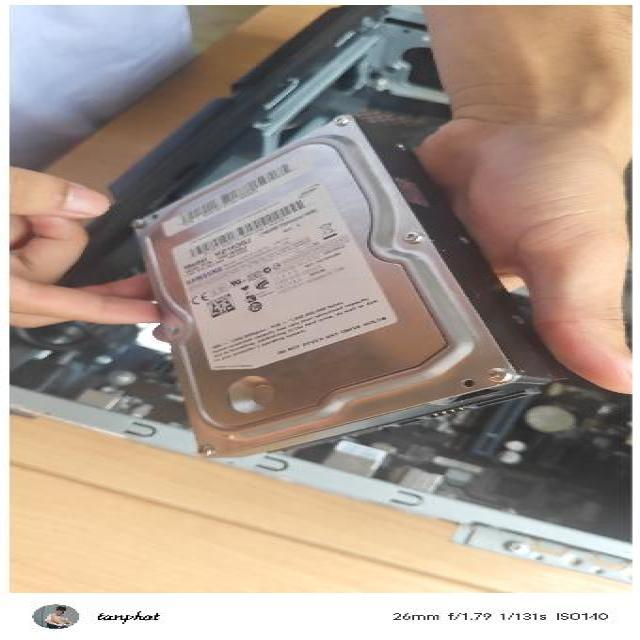DISK: (128, 111, 570, 462)
